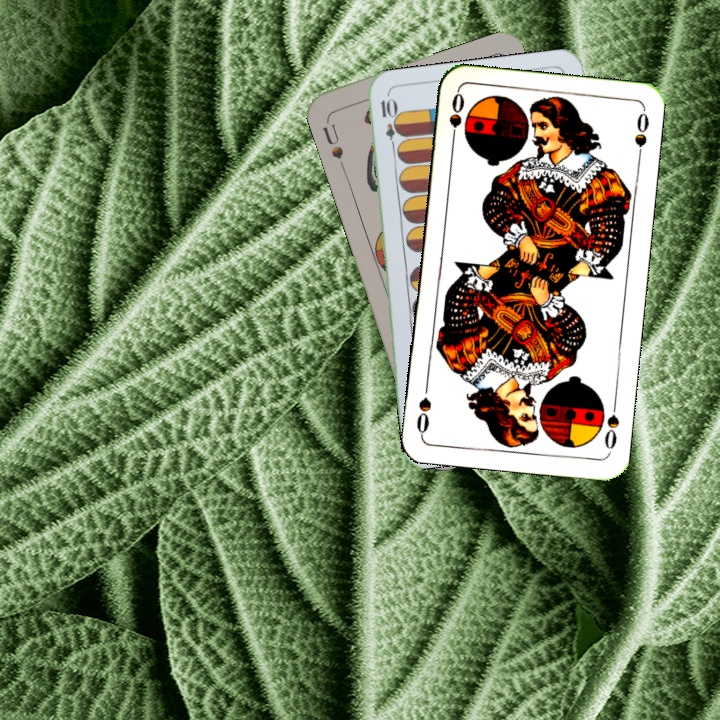E10: (376, 95, 400, 154)
SO: (445, 89, 467, 148), (600, 396, 622, 455)
SU: (318, 115, 348, 173)
